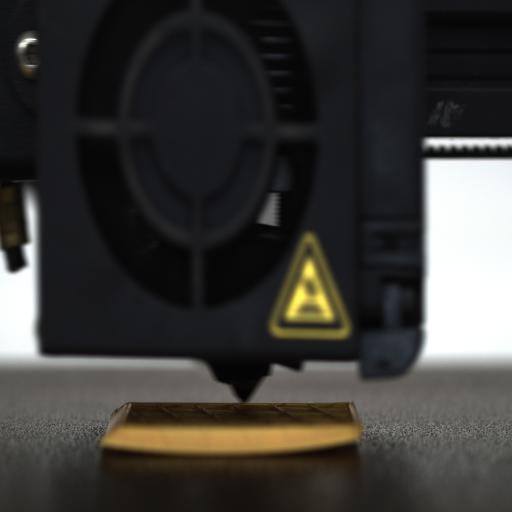warp: (314, 427, 364, 457)
